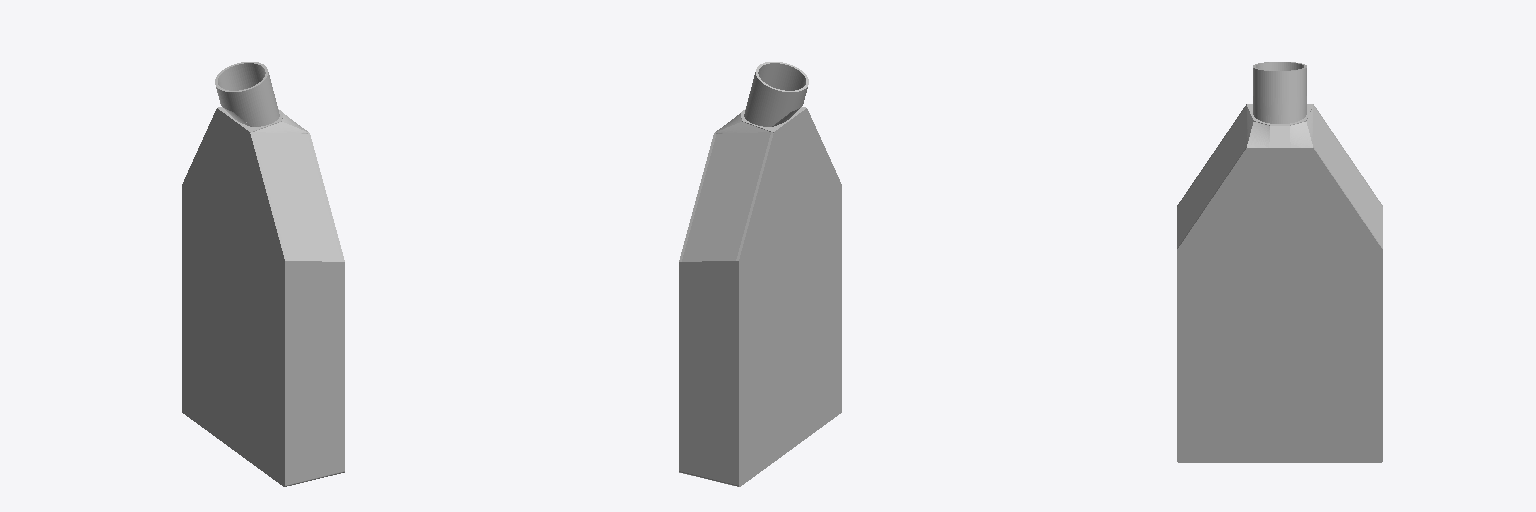
File: CellFlask.obj
3 renders of one model, left to right at view 1: azimuth 30°, elevation 25°; view 2: azimuth 150°, elevation 25°; view 3: azimuth 270°, elevation 25°, orthographic.
Visible parts, largest first — view 1: Solid1, Solid3; view 2: Solid1, Solid2; view 3: Solid1, Solid2, Solid3.
Boxes of the visible parts, x1,y1,x2,y2 form: Solid1: [182, 62, 344, 486]; Solid3: [253, 132, 341, 261]; Solid1: [679, 62, 841, 486]; Solid2: [682, 132, 770, 261]; Solid1: [1177, 62, 1382, 462]; Solid2: [1313, 105, 1382, 247]; Solid3: [1177, 105, 1246, 247].
Size of the model in its own units: 1.82 by 8.82 by 4.38.